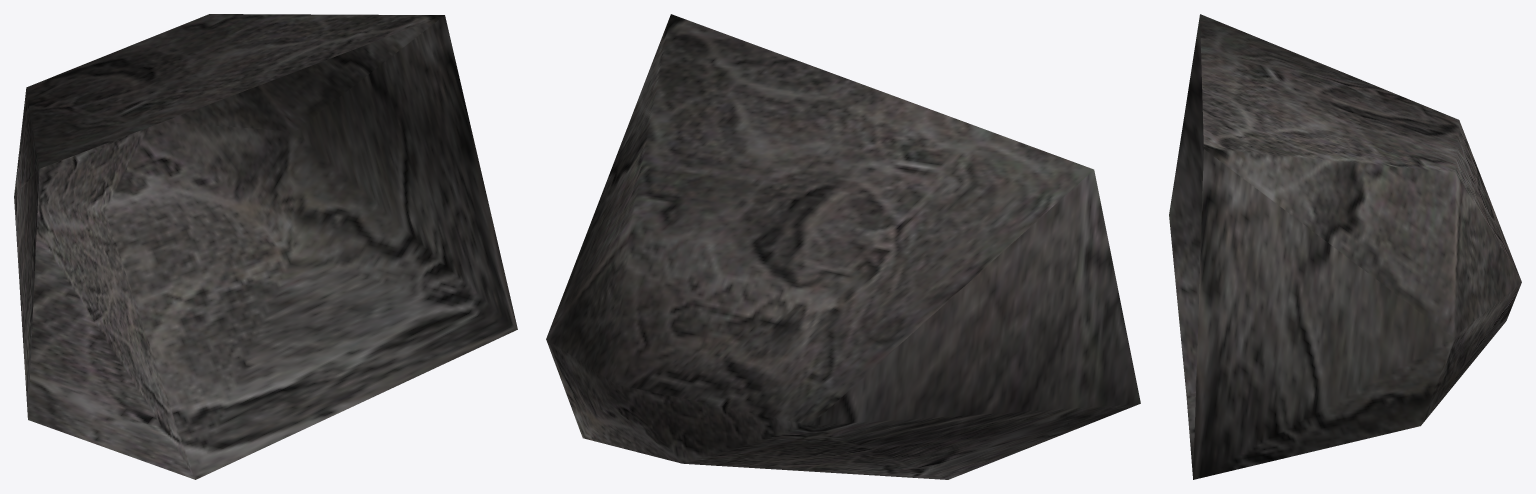
The model's file is GSW_01.fbx.
3 views of the same model, side by side, from view 1: azimuth 30°, elevation 25°; view 2: azimuth 150°, elevation 25°; view 3: azimuth 270°, elevation 25° (orthographic). The views are drawn at different scales.
Parts seen in each view (by area): view 1: GSW_01; view 2: GSW_01; view 3: GSW_01.
Part boxes in pixels (bbox=[...]): GSW_01: bbox=[14, 14, 517, 479]; GSW_01: bbox=[546, 14, 1140, 479]; GSW_01: bbox=[1169, 14, 1521, 479].
Bounding box in the file's own units: 1.73 × 1.3 × 1.14.
